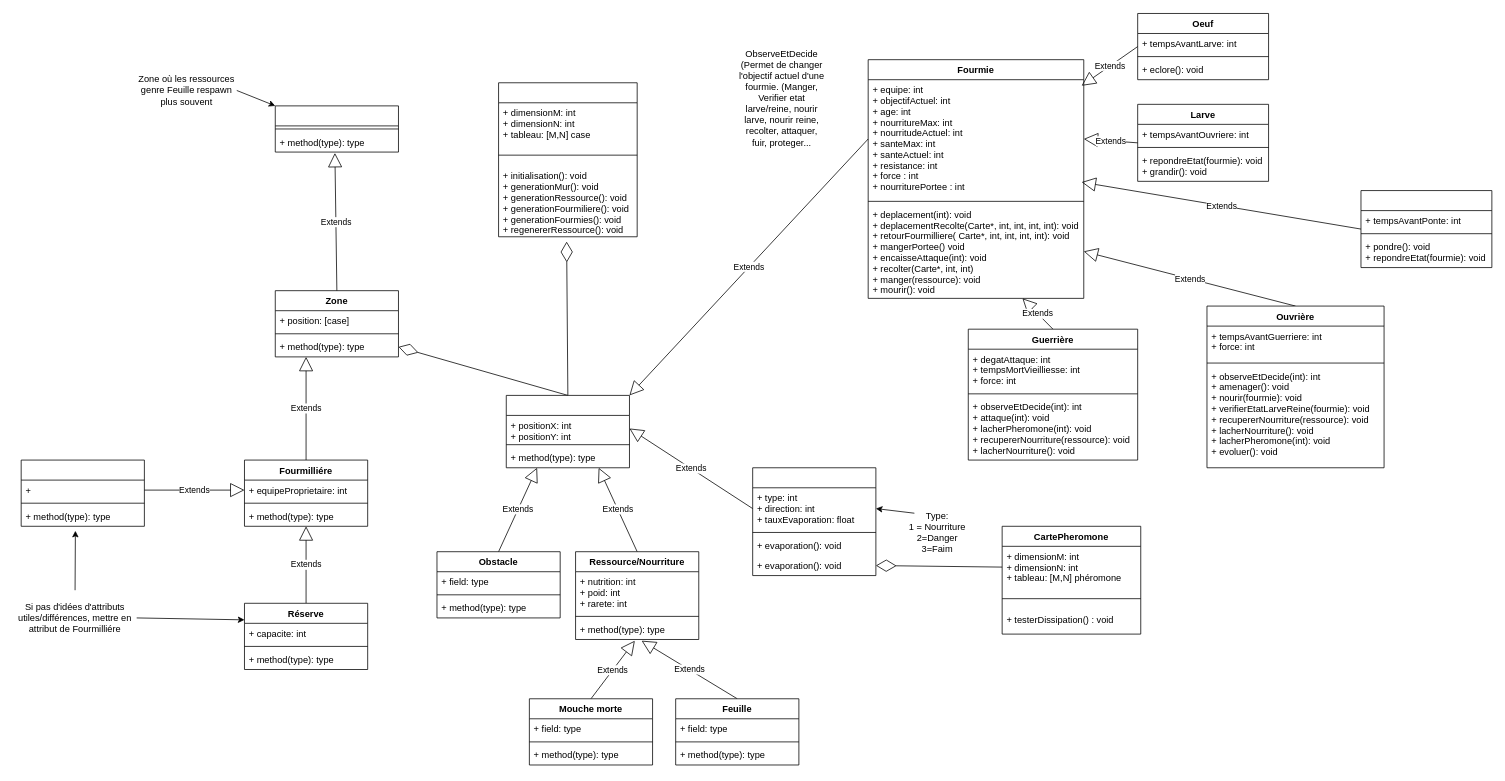
The diagram is 1505 pixels wide and 781 high, and some of its shapes have lost their labels. The box of each missing label's shape, as (x1, y1, x2, y2) in pixels:
Buisson: (275, 105, 398, 152)
Carte: (498, 82, 637, 237)
Case: (506, 395, 629, 468)
Incubateur: (20, 459, 144, 526)
Phéromone: (752, 467, 876, 576)
Reine: (1360, 190, 1492, 268)
